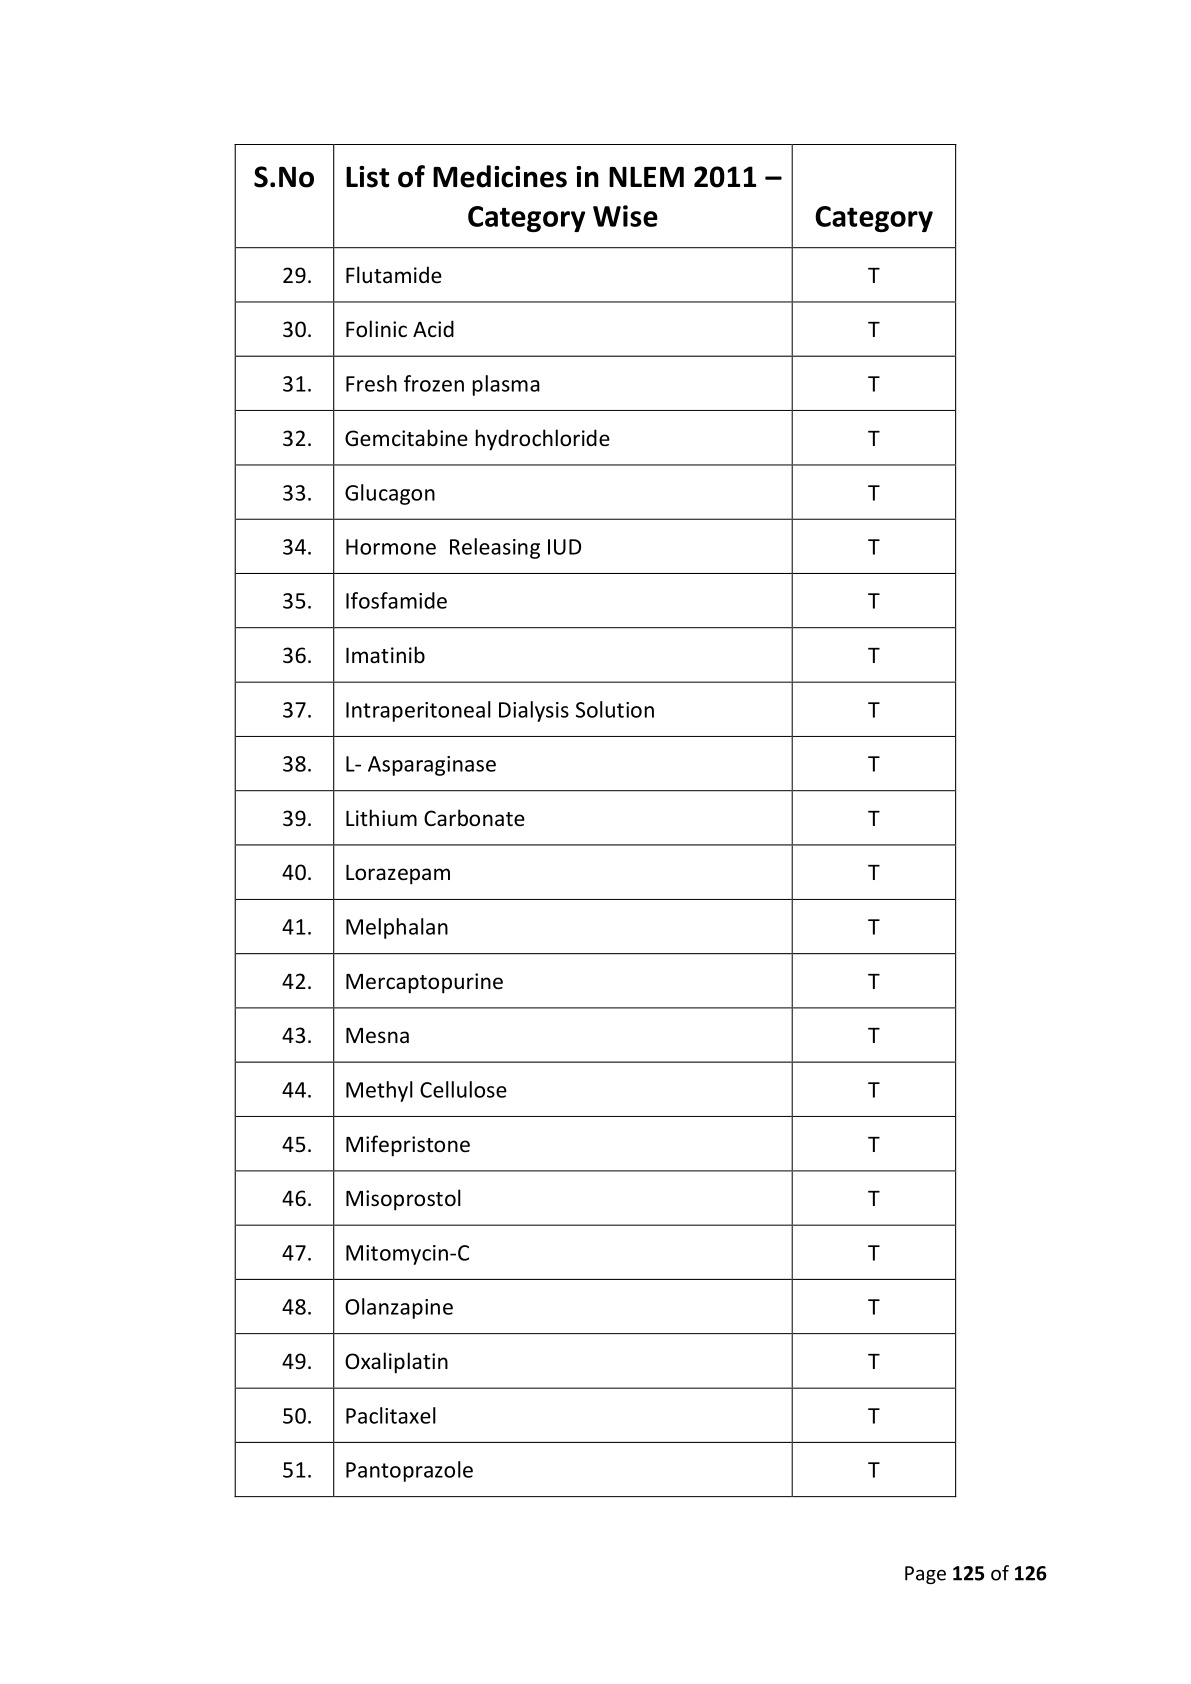full_lined: (235, 143, 956, 1498)
